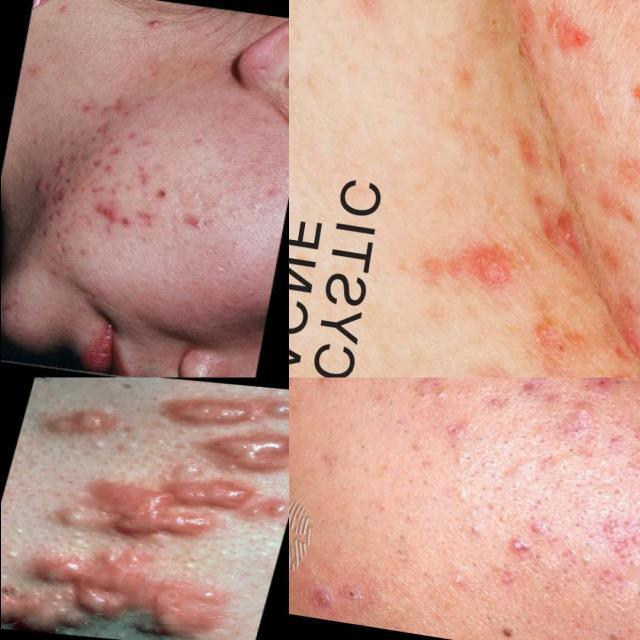cyst: (80, 515, 211, 550), (152, 586, 234, 637), (48, 404, 113, 447), (546, 196, 581, 262), (216, 433, 283, 467), (166, 397, 244, 425), (40, 558, 95, 587), (97, 579, 147, 610), (178, 480, 242, 503), (305, 581, 337, 622), (36, 598, 81, 623), (0, 593, 28, 628), (562, 403, 600, 420), (510, 536, 530, 568), (271, 395, 297, 418), (265, 503, 287, 517), (145, 19, 163, 35)
